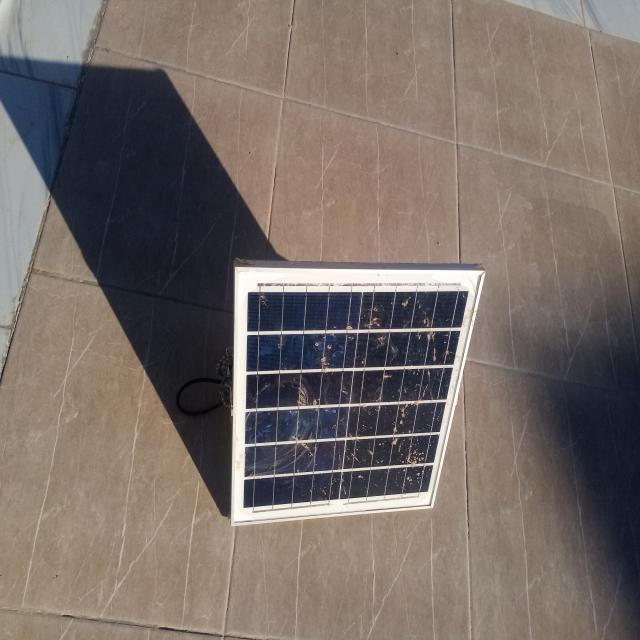faulty: (232, 268, 486, 524)
